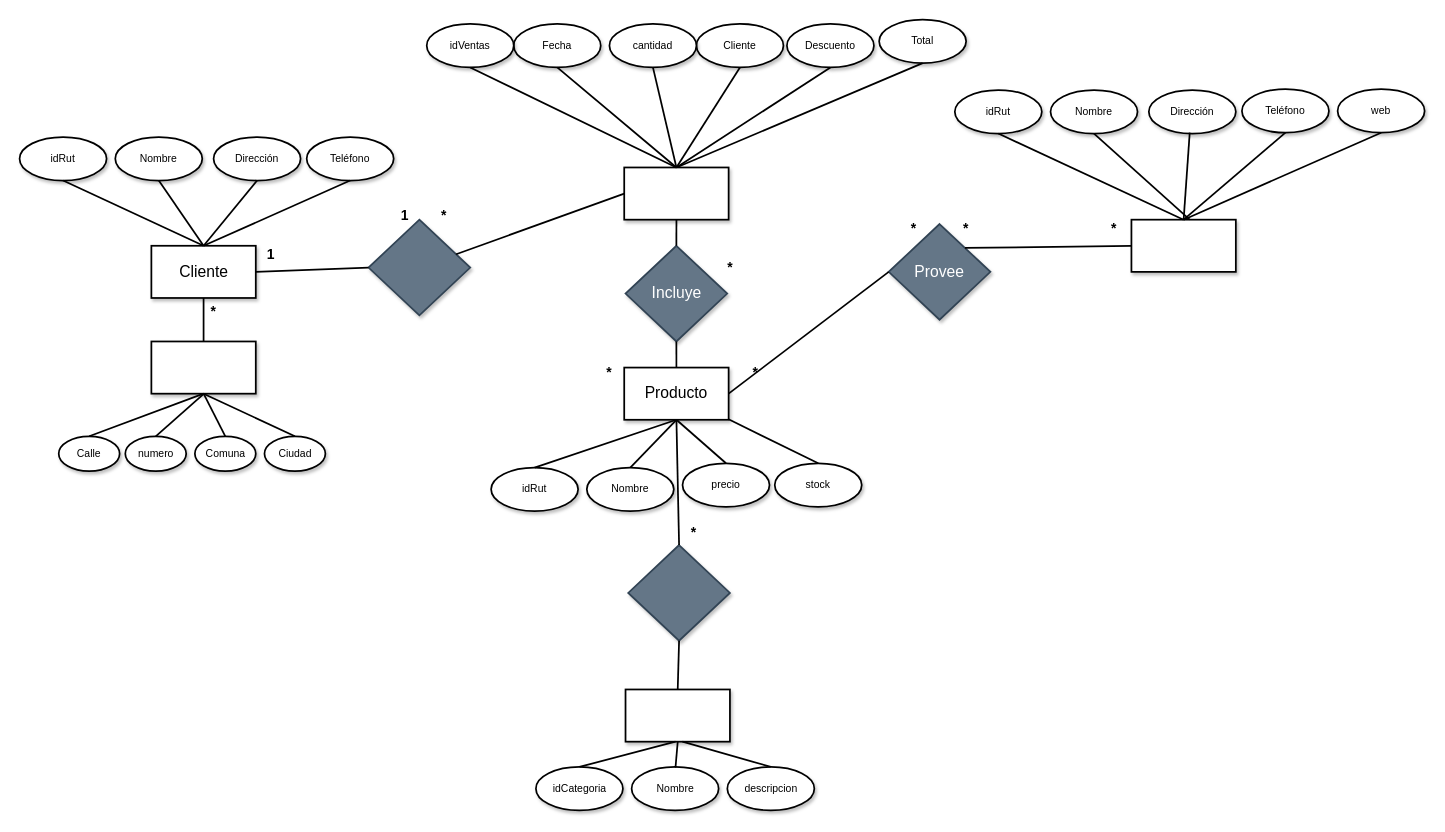
Some shapes in this 1445 by 832 pixel diagram are drawn without their labels. Here are the shapes that lost their labels. From the top down, the centre of each, then its label:
At [676,194]: "Ventas".
At [1184,246]: "Proveedor".
At [420,268]: "Ejecuta".
At [204,368]: "Direccion".
At [679,593]: "Posee".
At [678,716]: "Categoria".
